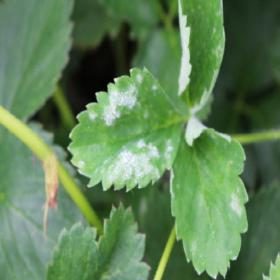Powdery Mildew Leaf: (66, 65, 189, 192), (169, 114, 250, 279), (176, 0, 226, 116)
